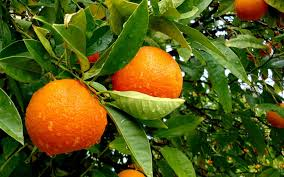orange: (25, 75, 107, 157), (108, 42, 186, 110)
